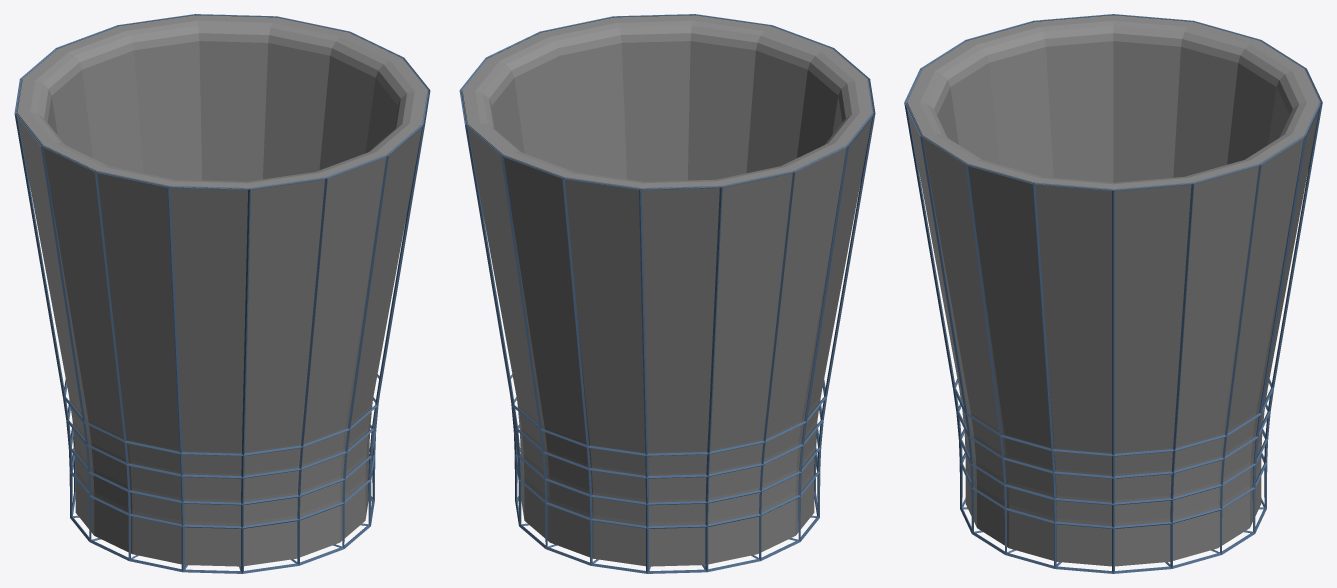
File: Station Bin.fbx
3 views of the same model, side by side, from view 1: azimuth 30°, elevation 25°; view 2: azimuth 150°, elevation 25°; view 3: azimuth 270°, elevation 25° (orthographic).
Parts seen in each view (by area): view 1: Main Bin, Bin Frame; view 2: Main Bin, Bin Frame; view 3: Main Bin, Bin Frame.
Boxes of the visible parts, x1,y1,x2,y2 form: Main Bin: (16, 15, 428, 566); Bin Frame: (14, 14, 430, 573); Main Bin: (461, 15, 873, 566); Bin Frame: (459, 14, 875, 573); Main Bin: (906, 15, 1320, 566); Bin Frame: (904, 14, 1322, 573).
Size of the model in its own units: 283 by 304 by 283.
